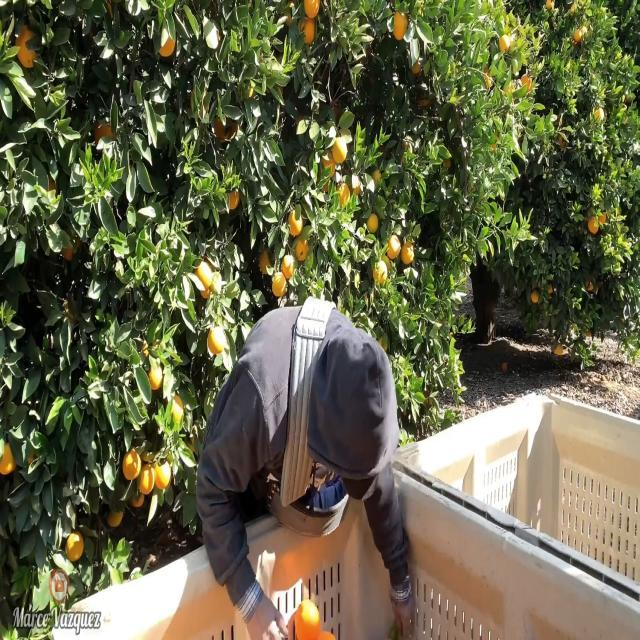Jeruk Sudah Matang: (12, 15, 44, 69), (63, 528, 88, 566), (388, 5, 412, 44), (121, 443, 142, 487), (151, 450, 172, 492), (0, 439, 20, 477), (137, 460, 156, 498), (332, 134, 354, 164), (207, 324, 226, 357), (297, 17, 319, 45), (292, 235, 312, 265), (193, 259, 213, 289), (298, 0, 326, 20), (398, 238, 416, 268), (258, 248, 277, 276), (288, 206, 304, 239), (371, 259, 389, 287), (386, 232, 402, 263), (281, 253, 298, 281), (272, 271, 288, 299), (367, 211, 380, 236), (498, 32, 512, 53), (586, 214, 600, 234), (593, 106, 605, 123), (530, 288, 540, 304)
